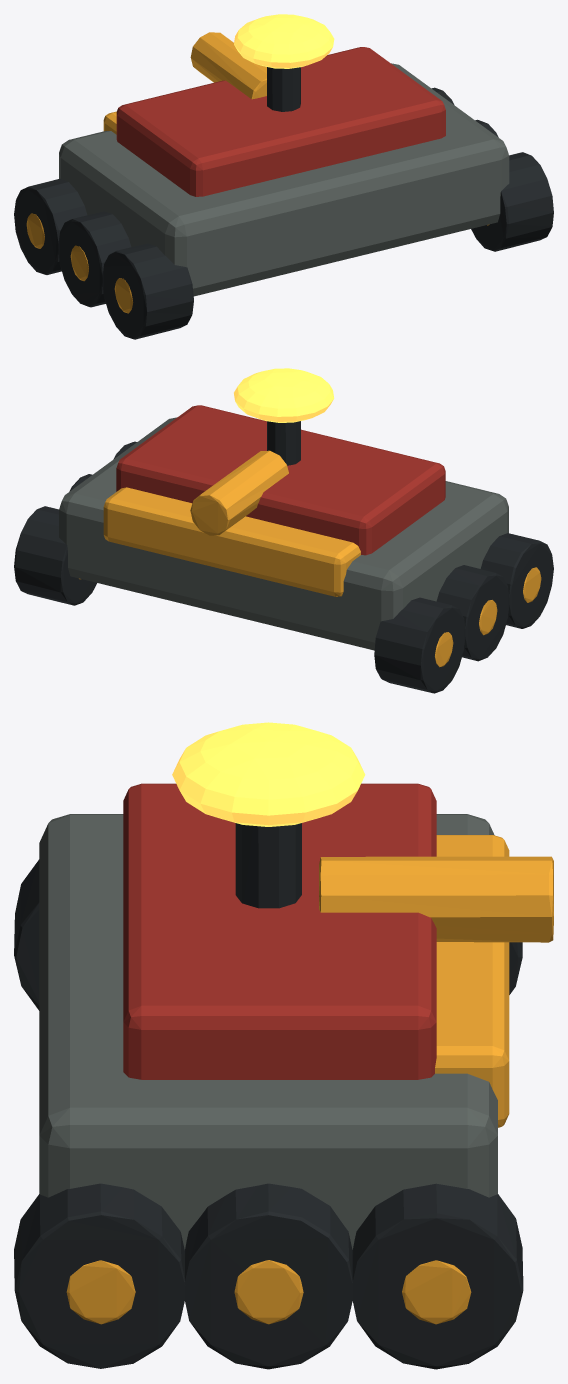
The model's file is SM_Soviet_SU_RysScout_LOD1.fbx.
The picture shows the model from 3 angles, top to bottom: view 1: azimuth 30°, elevation 25°; view 2: azimuth 150°, elevation 25°; view 3: azimuth 270°, elevation 25°; orthographic projection. The views are drawn at different scales.
Visible parts, largest first — view 1: LOD01_SM_Soviet_SU_RysScout; view 2: LOD01_SM_Soviet_SU_RysScout; view 3: LOD01_SM_Soviet_SU_RysScout.
Boxes of the visible parts, left/top/right/bottom form: LOD01_SM_Soviet_SU_RysScout: left=14, top=14, right=553, bottom=339; LOD01_SM_Soviet_SU_RysScout: left=14, top=368, right=553, bottom=693; LOD01_SM_Soviet_SU_RysScout: left=14, top=722, right=553, bottom=1369.
Size of the model in its own units: 355 by 212 by 191.
